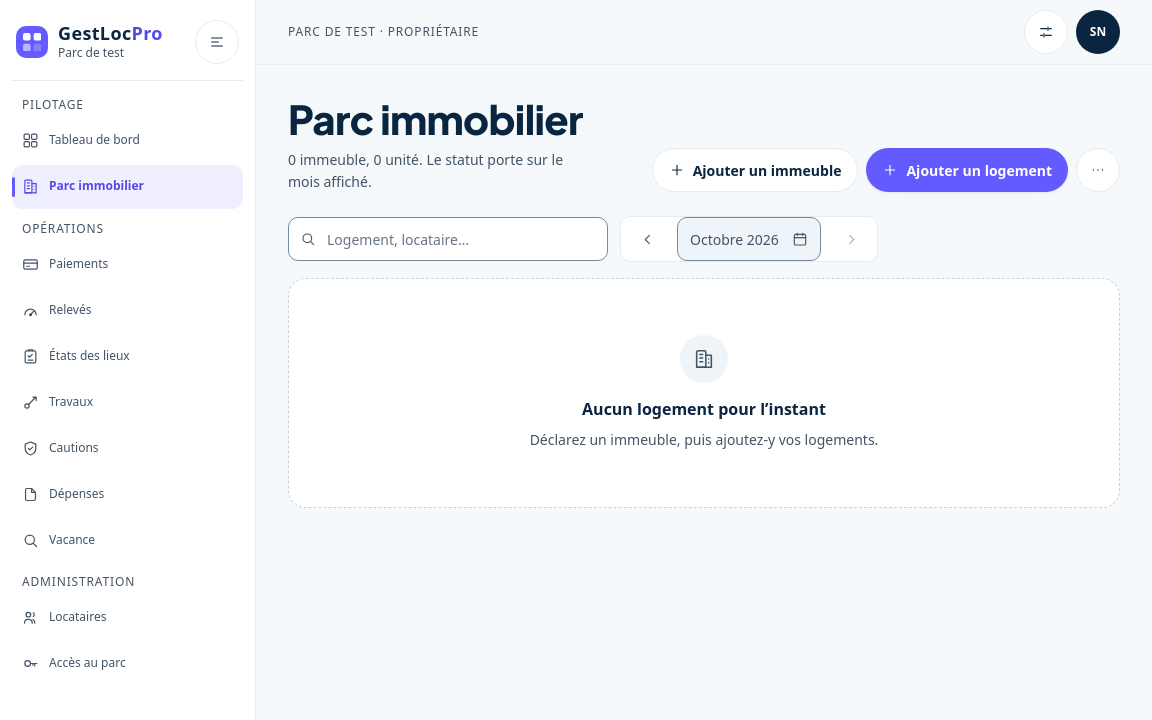
Test: la délégation se règle avec le reste du parc › montre celui du parc, et non un défaut d’écran
Click the button named "Autres actions".
click(1098, 170)  # box [1076, 148, 1120, 192]
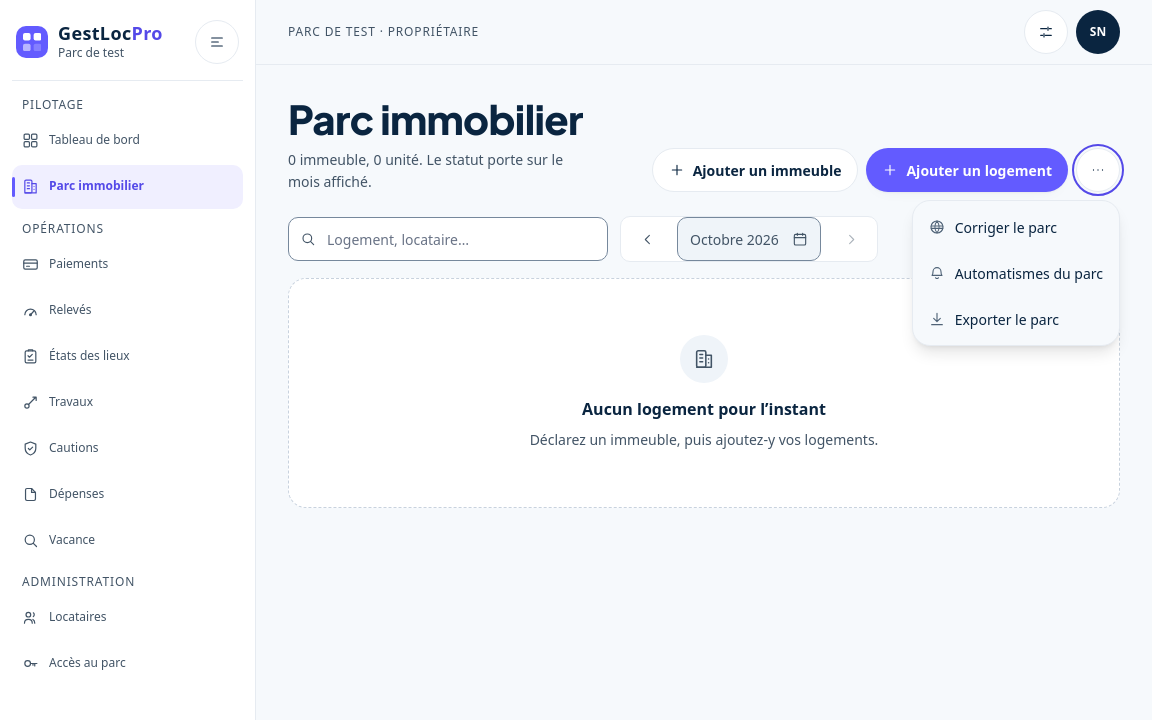
Click the menu item "Corriger le parc".
click(1016, 227)  # box [917, 205, 1115, 249]
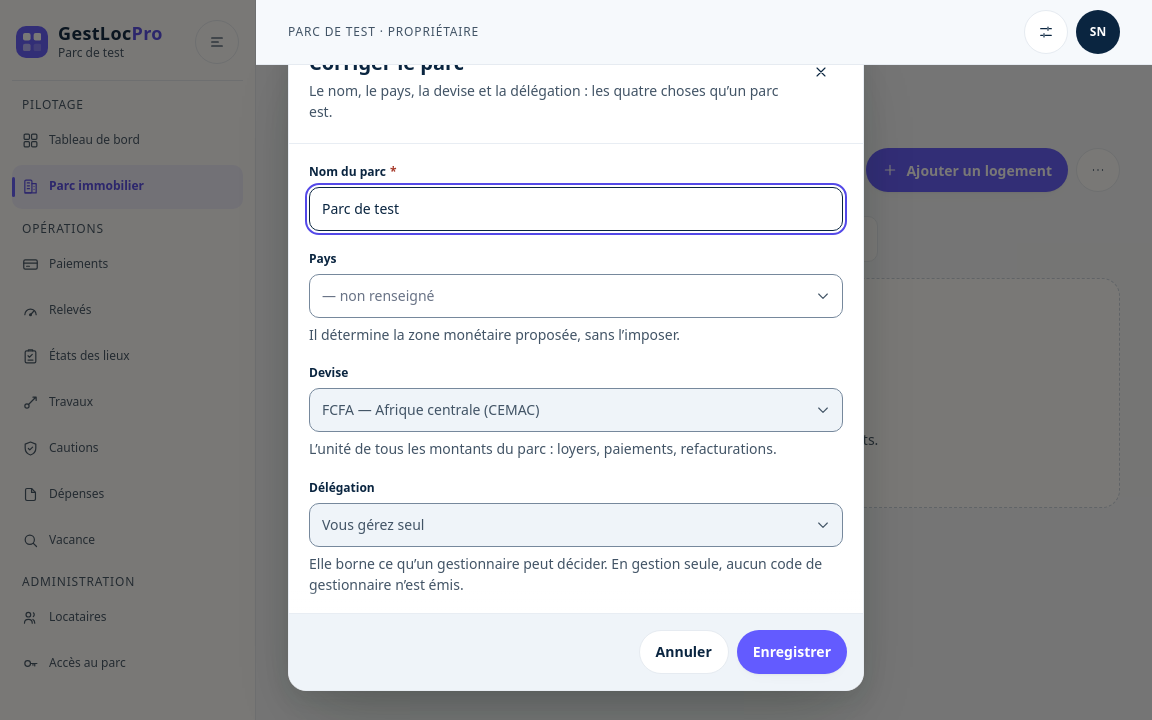
Expected: the dropdown labelled "Délégation" shows "Vous gérez seul", [309, 503, 843, 547]
